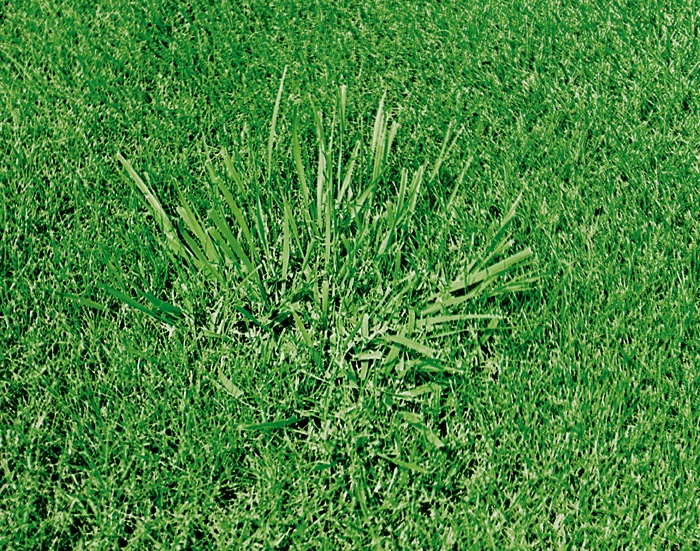crabgrass: (158, 168, 509, 463)
